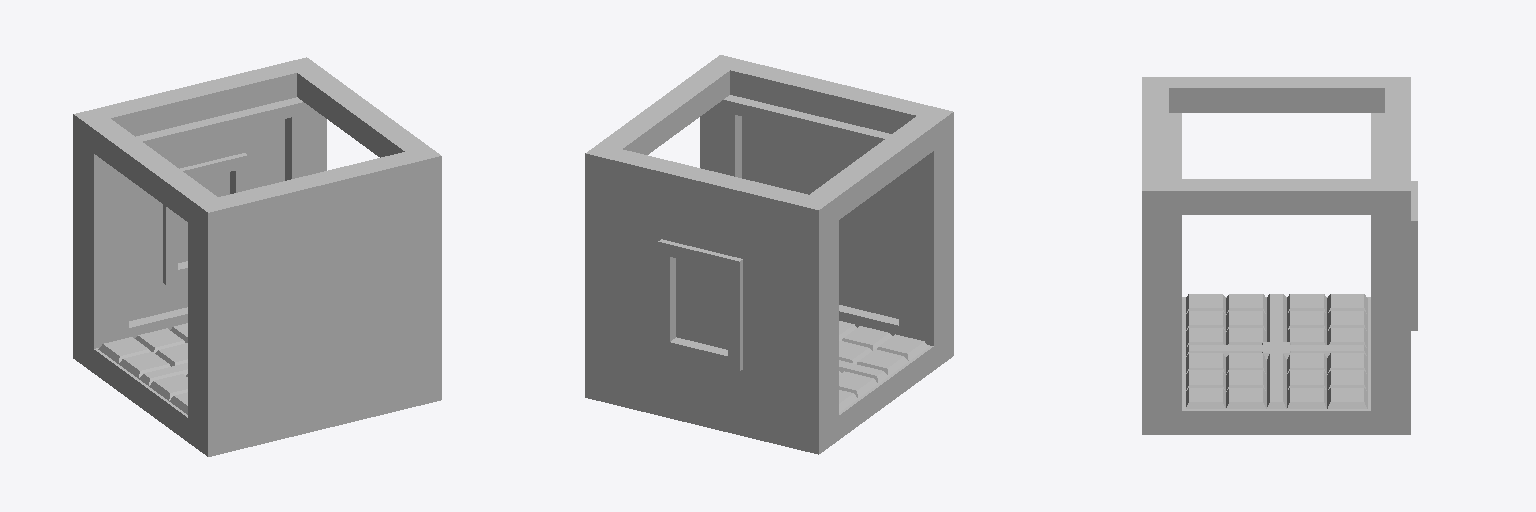
The model's file is ModularInterior.obj.
3 renders of one model, left to right at view 1: azimuth 30°, elevation 25°; view 2: azimuth 150°, elevation 25°; view 3: azimuth 270°, elevation 25°, orthographic.
Visible parts, largest first — view 1: group[number redacted], group[number redacted], group[number redacted], group[number redacted]; view 2: group[number redacted], group[number redacted], group[number redacted], group[number redacted]; view 3: group[number redacted], group[number redacted], group[number redacted], group[number redacted], group[number redacted].
Boxes of the visible parts, <box> form: group[number redacted]: <box>73,57,441,456</box>; group[number redacted]: <box>243,189,406,423</box>; group[number redacted]: <box>129,100,291,338</box>; group[number redacted]: <box>98,337,187,414</box>; group[number redacted]: <box>585,55,953,454</box>; group[number redacted]: <box>621,187,783,421</box>; group[number redacted]: <box>735,98,898,335</box>; group[number redacted]: <box>839,334,928,412</box>; group[number redacted]: <box>1142,77,1410,434</box>; group[number redacted]: <box>1186,353,1367,408</box>; group[number redacted]: <box>1186,294,1367,341</box>; group[number redacted]: <box>1290,118,1417,357</box>; group[number redacted]: <box>1169,118,1262,356</box>.
Size of the model in its own units: 0.4 by 0.4 by 0.41.